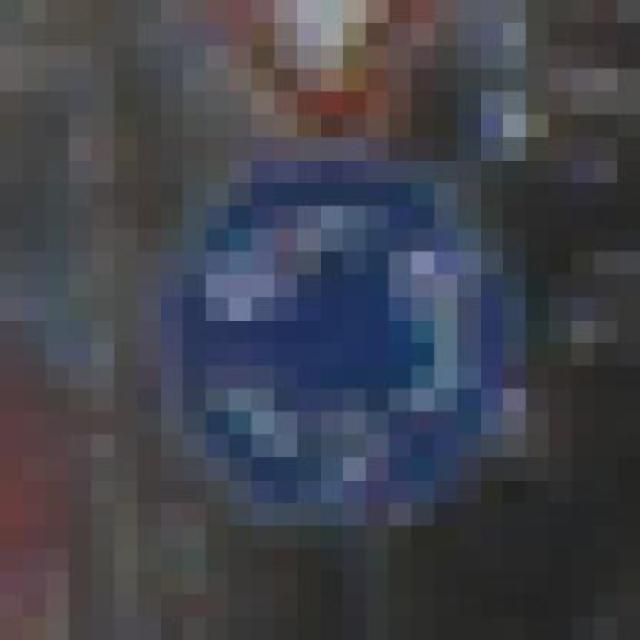Round-About: (91, 114, 548, 549)
